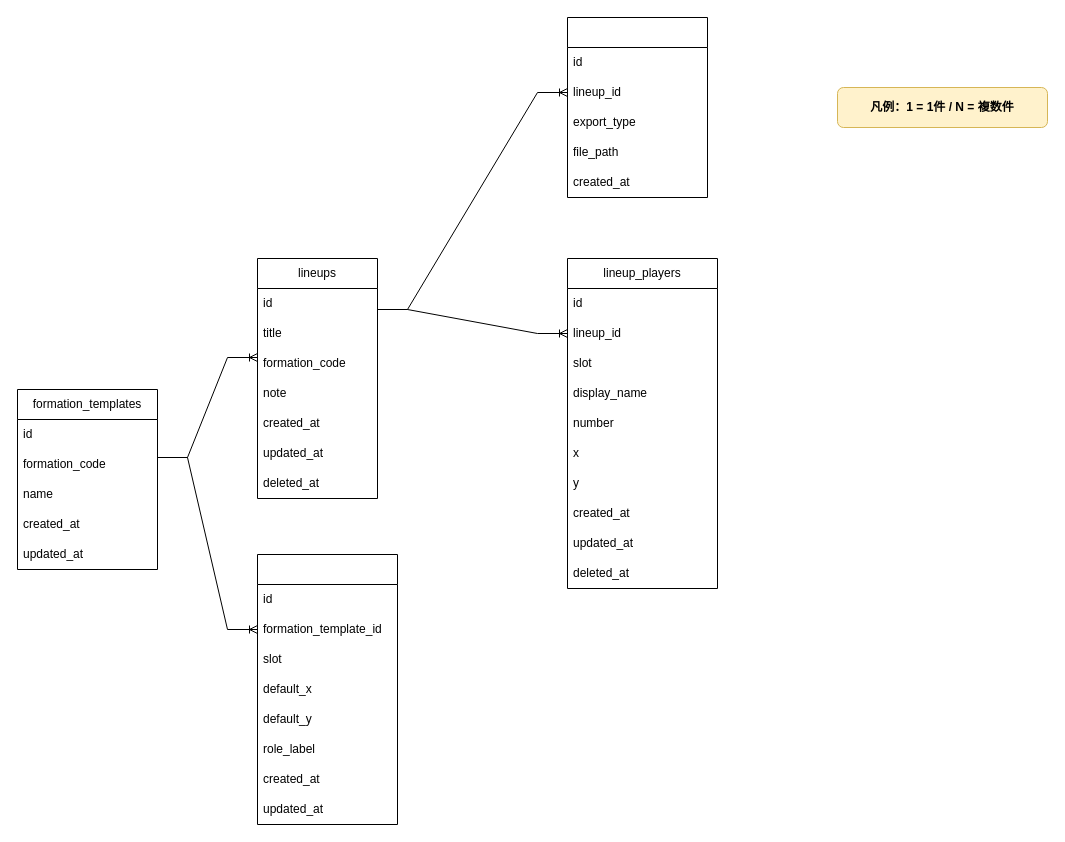
The diagram is 1065 pixels wide and 842 high, and some of its shapes have lost their labels. Here are the shapes that lost their labels. From the top down, the box of each, then its label:
(566, 16, 708, 198): lineup_exports
(256, 554, 398, 824): formation_slots
